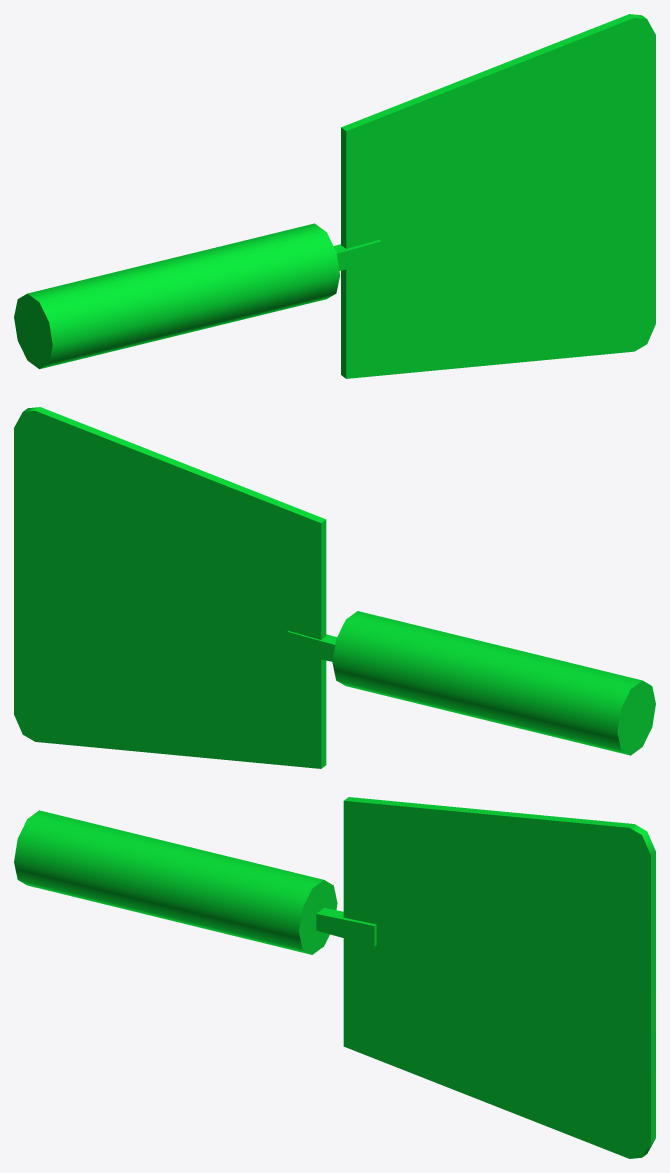
File: Windmill_01_Tail_Lod0.fbx
3 renders of one model, top to bottom at view 1: azimuth 30°, elevation 25°; view 2: azimuth 150°, elevation 25°; view 3: azimuth 330°, elevation 25°, orthographic.
Parts seen in each view (by area): view 1: Windmill_01_Tail_Lod0; view 2: Windmill_01_Tail_Lod0; view 3: Windmill_01_Tail_Lod0.
Part boxes in pixels (x1,y1,x2,y2): Windmill_01_Tail_Lod0: (14,14,655,378); Windmill_01_Tail_Lod0: (14,407,655,768); Windmill_01_Tail_Lod0: (14,797,655,1158).
Size of the model in its own units: 170 by 87.35 by 18.43.
